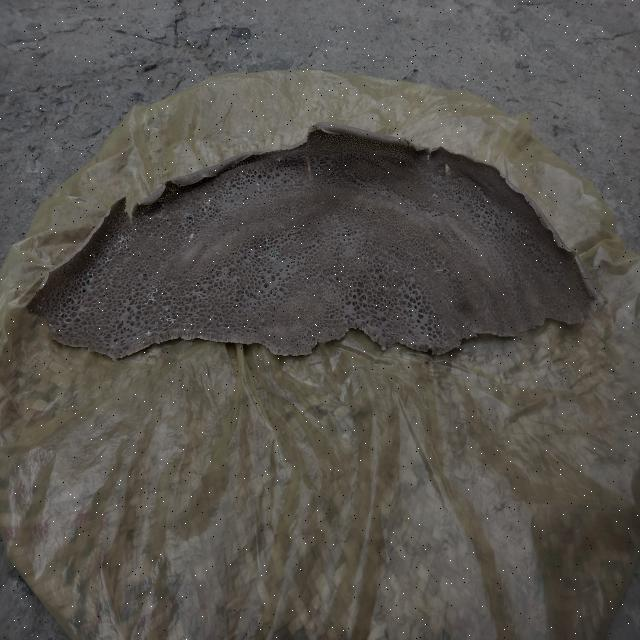injera_mold: (146, 287, 160, 305), (116, 234, 131, 250), (164, 314, 175, 326), (184, 212, 192, 225), (122, 255, 130, 265), (144, 329, 152, 338), (314, 166, 322, 175), (85, 274, 92, 284), (271, 249, 277, 260), (188, 232, 195, 240), (105, 255, 112, 262), (98, 259, 102, 270), (115, 264, 121, 271), (204, 199, 210, 206), (158, 314, 163, 322), (215, 250, 221, 256), (112, 342, 118, 348), (90, 253, 96, 259), (148, 232, 154, 238), (276, 157, 282, 163), (104, 244, 109, 251), (266, 238, 270, 246), (138, 250, 142, 258), (158, 330, 166, 334), (216, 217, 222, 222), (279, 224, 284, 230), (76, 314, 81, 320), (37, 305, 43, 310), (77, 271, 81, 278), (274, 292, 278, 299), (432, 193, 437, 198), (82, 288, 86, 294), (74, 278, 80, 282), (82, 277, 85, 285), (158, 212, 164, 216), (154, 322, 160, 326), (49, 322, 53, 327), (64, 320, 69, 324), (112, 243, 116, 248), (107, 221, 111, 226), (161, 292, 164, 298), (78, 288, 81, 294), (140, 217, 143, 223), (256, 256, 260, 260), (60, 313, 64, 317), (111, 234, 115, 238), (161, 203, 165, 207), (208, 234, 212, 238), (110, 274, 114, 278), (42, 296, 45, 301), (153, 327, 156, 332), (117, 251, 120, 256), (90, 268, 97, 270), (173, 283, 176, 287), (109, 282, 113, 285), (135, 222, 138, 226), (116, 230, 120, 233), (204, 208, 207, 212), (175, 203, 178, 207), (151, 216, 154, 220), (489, 224, 492, 228), (30, 308, 33, 312), (92, 273, 94, 279), (123, 251, 127, 254), (298, 170, 301, 174), (162, 304, 164, 309), (134, 229, 136, 234), (86, 329, 88, 334), (165, 242, 168, 245), (145, 215, 148, 218), (474, 209, 477, 212), (483, 223, 486, 226), (142, 341, 145, 344), (186, 279, 190, 281), (131, 228, 133, 232), (269, 162, 271, 166), (484, 198, 486, 202), (494, 221, 496, 225), (560, 262, 562, 266), (278, 346, 280, 350), (156, 326, 160, 328), (109, 250, 111, 254), (109, 234, 111, 238), (55, 282, 57, 285), (132, 238, 134, 241), (108, 240, 110, 243), (141, 212, 144, 214), (257, 182, 259, 185), (288, 168, 290, 171), (185, 237, 187, 240), (268, 173, 270, 176), (288, 163, 290, 166), (240, 165, 242, 168), (472, 205, 474, 208), (518, 234, 520, 237), (517, 243, 519, 246), (311, 259, 313, 262), (308, 251, 310, 254), (164, 282, 167, 284), (103, 292, 105, 295), (242, 198, 244, 201), (113, 224, 114, 229), (69, 296, 71, 298), (136, 234, 138, 236), (127, 273, 128, 277), (143, 280, 145, 282), (270, 174, 272, 176), (474, 188, 476, 190), (480, 226, 482, 228), (318, 282, 320, 284), (526, 223, 528, 225), (258, 188, 260, 190), (292, 182, 294, 184), (100, 240, 104, 241), (142, 275, 143, 278), (526, 230, 527, 233), (454, 185, 455, 188), (60, 306, 61, 308), (267, 160, 268, 162), (499, 274, 500, 276), (527, 240, 528, 242), (480, 217, 481, 219), (489, 269, 490, 270), (60, 304, 61, 304), (512, 238, 512, 240)
